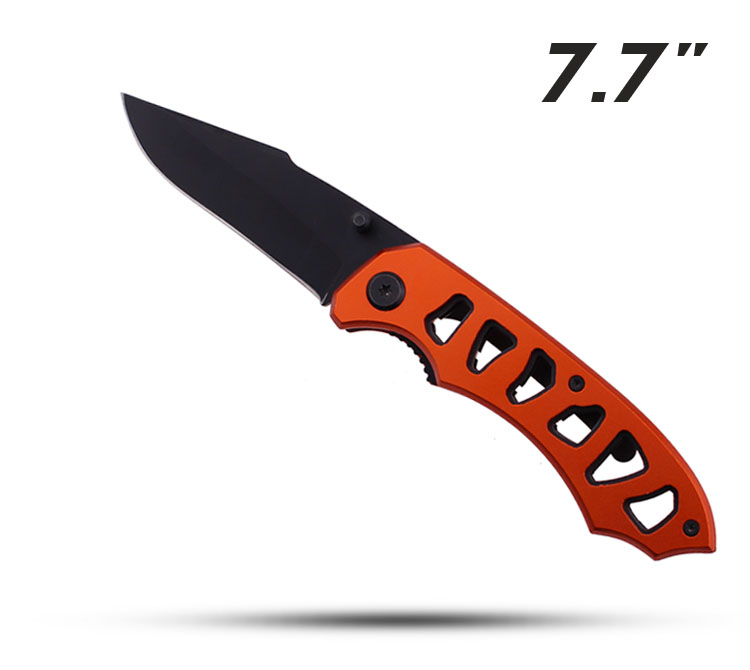knief: (104, 77, 722, 570)
